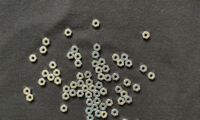nut: (26, 94, 34, 102), (47, 74, 55, 82), (54, 77, 62, 85), (60, 105, 68, 113), (62, 93, 70, 101), (77, 80, 85, 88), (82, 85, 90, 93), (92, 51, 100, 59), (112, 54, 120, 62), (117, 59, 125, 67), (121, 54, 129, 62), (125, 60, 133, 68), (133, 84, 141, 92), (140, 65, 148, 73), (24, 88, 31, 96), (29, 55, 37, 62), (38, 79, 46, 86), (43, 38, 50, 46), (42, 70, 50, 77), (49, 62, 57, 69), (53, 70, 61, 77), (67, 52, 75, 59), (71, 46, 79, 53), (74, 53, 82, 60), (75, 60, 82, 68), (69, 90, 77, 97), (70, 82, 78, 89), (77, 90, 84, 98), (85, 108, 93, 115), (86, 99, 94, 106), (94, 98, 101, 106), (91, 105, 99, 112), (95, 110, 102, 118), (101, 111, 108, 119), (100, 103, 107, 111), (94, 44, 101, 52), (92, 61, 100, 68), (103, 65, 110, 73), (96, 82, 103, 90), (106, 100, 114, 107), (112, 109, 119, 117), (112, 74, 120, 81), (115, 87, 123, 94), (118, 98, 125, 106), (121, 91, 128, 99), (125, 96, 132, 104), (143, 31, 150, 39), (124, 79, 131, 87), (148, 73, 156, 80), (40, 47, 47, 54), (65, 29, 72, 36), (63, 86, 70, 93), (77, 73, 84, 80), (85, 92, 92, 99), (86, 79, 93, 86), (85, 72, 92, 79), (94, 91, 101, 98), (93, 20, 100, 27), (96, 67, 103, 74), (99, 59, 106, 66), (98, 74, 105, 81), (105, 75, 112, 82), (90, 85, 96, 93), (101, 88, 107, 96), (87, 115, 94, 120), (122, 119, 129, 120)
